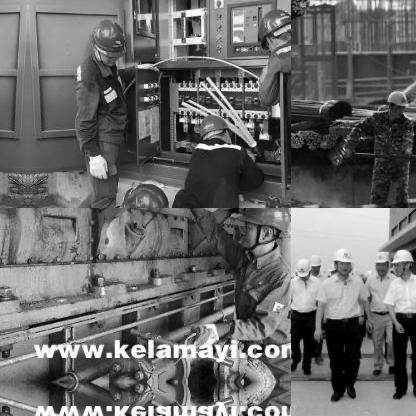Helmet: (234, 208, 290, 255), (84, 16, 126, 66), (253, 5, 290, 53), (116, 178, 171, 207), (195, 112, 229, 146), (390, 247, 414, 275), (384, 86, 406, 116), (330, 244, 350, 274), (292, 257, 310, 283), (371, 250, 387, 274), (307, 251, 321, 275)
